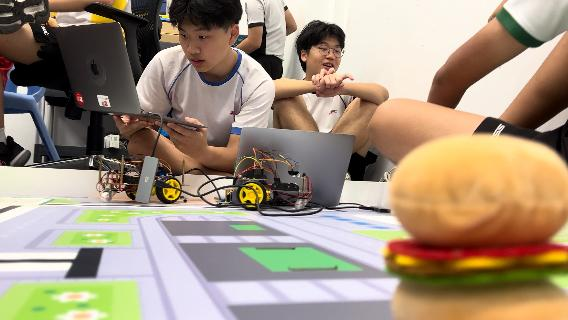burger: (382, 134, 568, 320)
